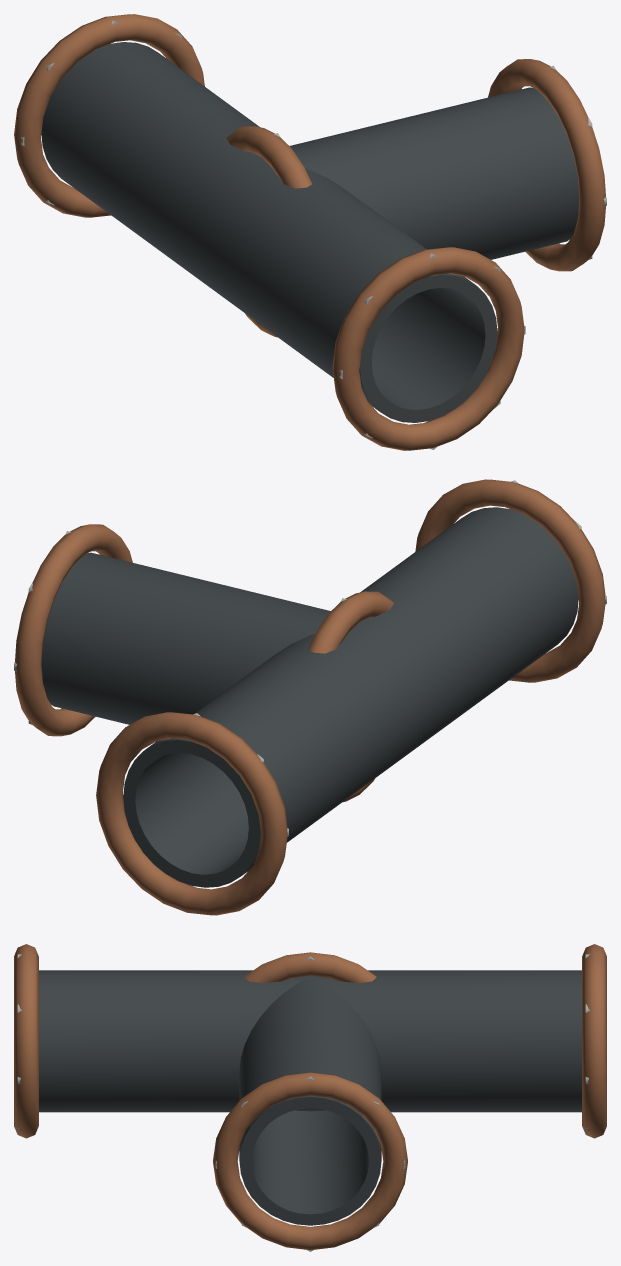
The model's file is undercity-sewers-and-thieves-den-iron-pipe-tee-cf0d76e1__27200.glb.
The picture shows the model from 3 angles, top to bottom: view 1: azimuth 30°, elevation 25°; view 2: azimuth 150°, elevation 25°; view 3: azimuth 270°, elevation 25°; orthographic projection. The views are drawn at different scales.
Visible parts, largest first — view 1: iron-pipe-tee; view 2: iron-pipe-tee; view 3: iron-pipe-tee.
Boxes of the visible parts, x1,y1,x2,y2 form: iron-pipe-tee: (14,14,606,450); iron-pipe-tee: (14,479,606,915); iron-pipe-tee: (14,944,606,1251).
Bounding box in the file's own units: 1.11 × 0.5501 × 1.67.
